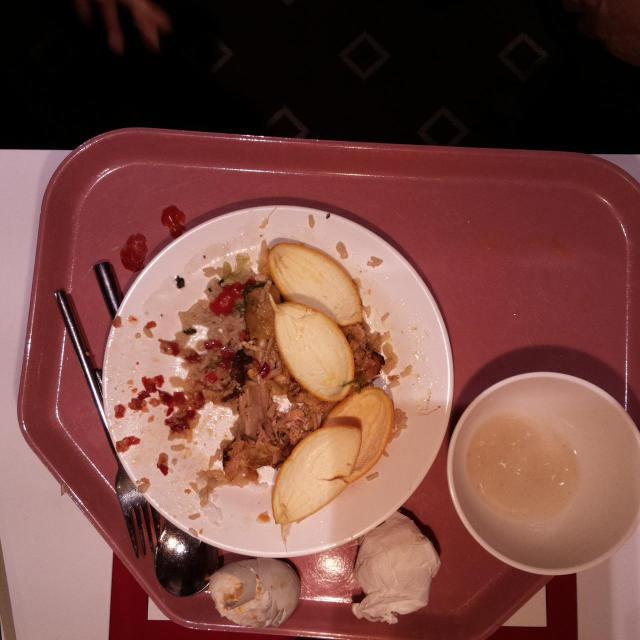Egg-shell: (207, 558, 299, 630)
Meat: (224, 374, 276, 482), (244, 287, 274, 355)
Orange-peel: (272, 426, 364, 526), (267, 239, 365, 327), (315, 387, 395, 485), (275, 305, 355, 401)
Rice: (178, 298, 246, 402)
